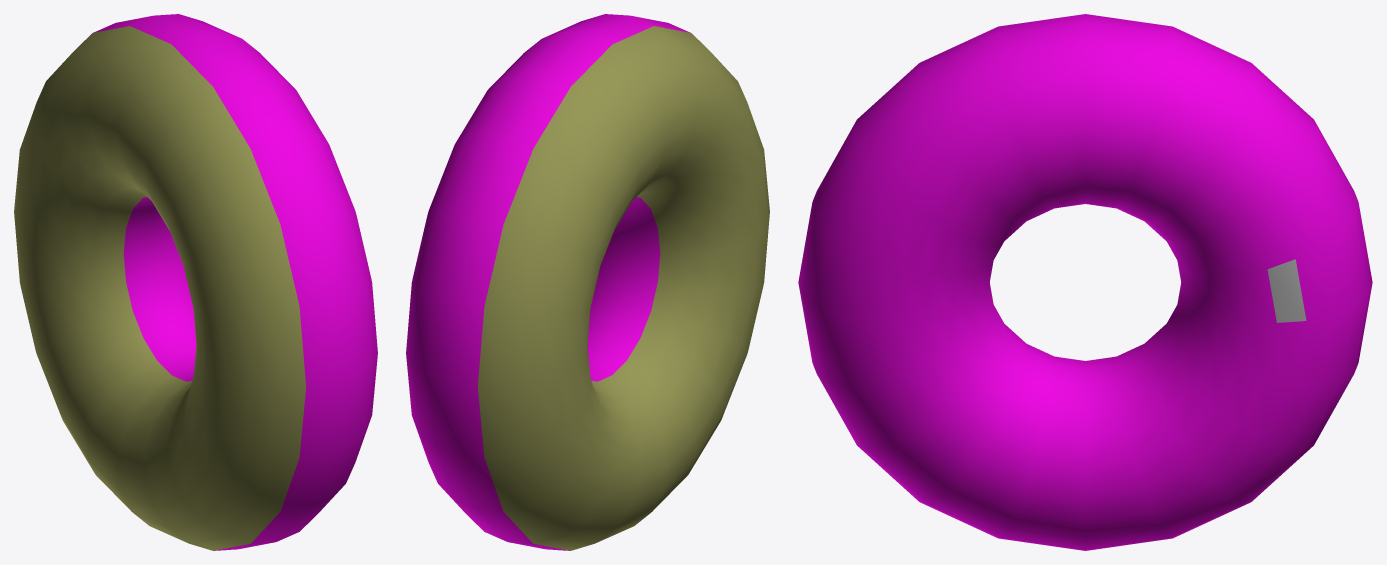
Rendered from donut.fbx.
3 views of the same model, side by side, from view 1: azimuth 30°, elevation 25°; view 2: azimuth 150°, elevation 25°; view 3: azimuth 270°, elevation 25° (orthographic). The views are drawn at different scales.
Parts seen in each view (by area): view 1: pTorus1; view 2: pTorus1; view 3: pTorus1.
Boxes of the visible parts, x1,y1,x2,y2 form: pTorus1: [14, 14, 377, 550]; pTorus1: [406, 14, 769, 550]; pTorus1: [798, 14, 1372, 550].
Size of the model in its own units: 6.65 by 19.94 by 19.94.
